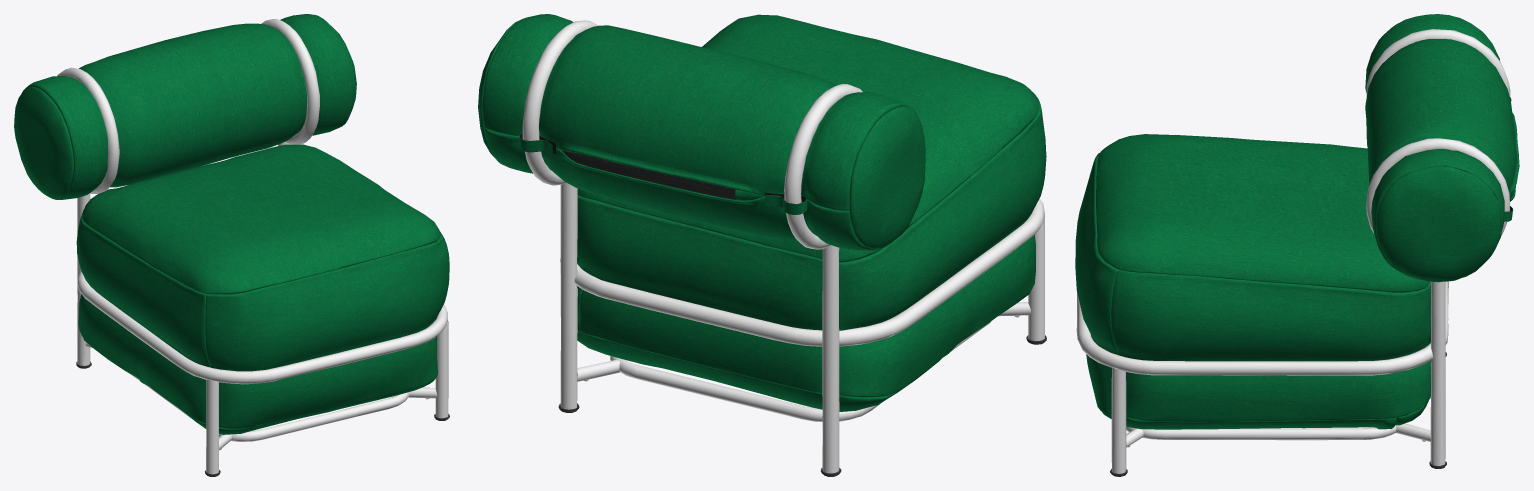
File: ikea_ps_2026_fotel_90623202.glb
3 renders of one model, left to right at view 1: azimuth 30°, elevation 25°; view 2: azimuth 150°, elevation 25°; view 3: azimuth 270°, elevation 25°, orthographic. The views are drawn at different scales.
Visible parts, largest first — view 1: ikea_ps_2026_fotel_90623202; view 2: ikea_ps_2026_fotel_90623202; view 3: ikea_ps_2026_fotel_90623202.
Boxes of the visible parts, left/top/right/bottom form: ikea_ps_2026_fotel_90623202: left=14, top=14, right=449, bottom=476; ikea_ps_2026_fotel_90623202: left=478, top=14, right=1046, bottom=476; ikea_ps_2026_fotel_90623202: left=1075, top=14, right=1519, bottom=476.
Bounding box in the file's own units: 0.7564 × 0.7055 × 0.8606.
Materials: 1 (1 with a texture image).
